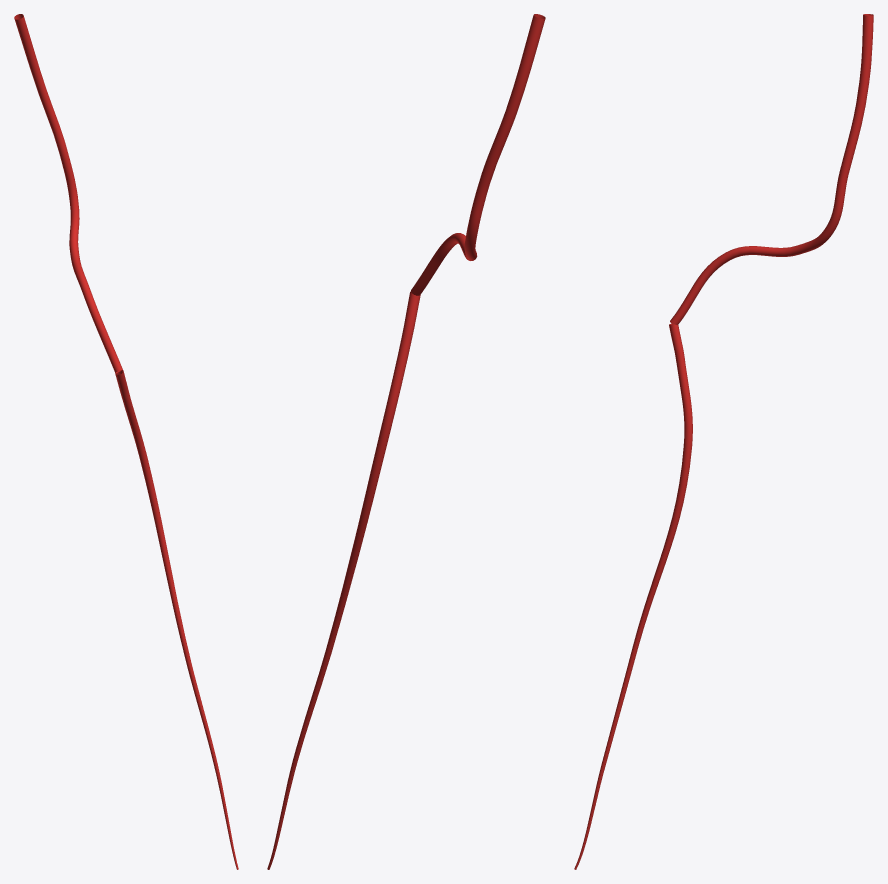
File: circulatorio-common-interosseous-artery-l.glb
3 views of the same model, side by side, from view 1: azimuth 30°, elevation 25°; view 2: azimuth 210°, elevation 25°; view 3: azimuth 270°, elevation 25° (orthographic). The views are drawn at different scales.
Visible parts, largest first — view 1: Recurrent interosseous artery.l, Posterior interosseous artery.l; view 2: Posterior interosseous artery.l, Recurrent interosseous artery.l; view 3: Recurrent interosseous artery.l, Posterior interosseous artery.l.
Part boxes in pixels (left/top/right/bottom): Recurrent interosseous artery.l: left=14, top=14, right=122, bottom=372; Posterior interosseous artery.l: left=122, top=397, right=238, bottom=869; Posterior interosseous artery.l: left=267, top=337, right=411, bottom=869; Recurrent interosseous artery.l: left=410, top=14, right=545, bottom=295; Recurrent interosseous artery.l: left=670, top=14, right=873, bottom=324; Posterior interosseous artery.l: left=574, top=361, right=692, bottom=869.
Size of the model in its own units: 0.0243 by 0.2108 by 0.0702.
